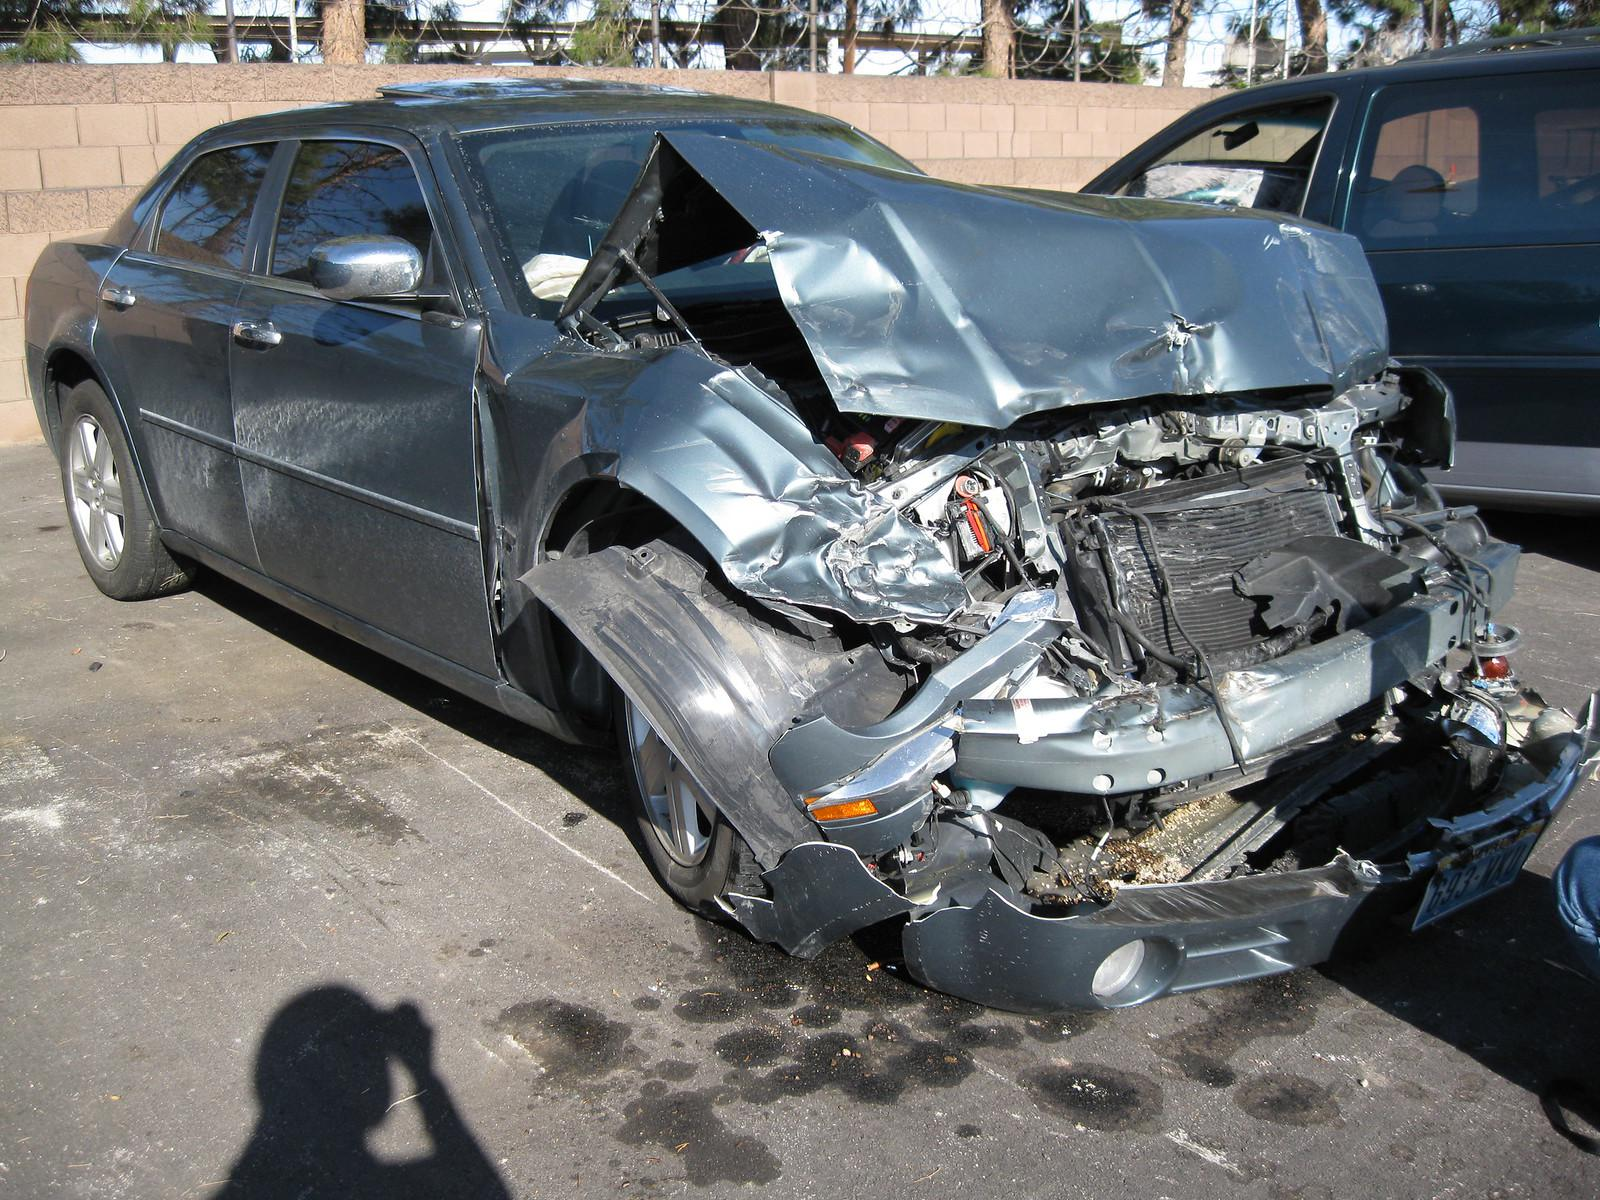bonnet-dent: (675, 127, 1387, 447)
doorouter-dent: (248, 323, 480, 626)
fender-dent: (525, 383, 844, 568)
front-bumper-dent: (978, 717, 1529, 950)
